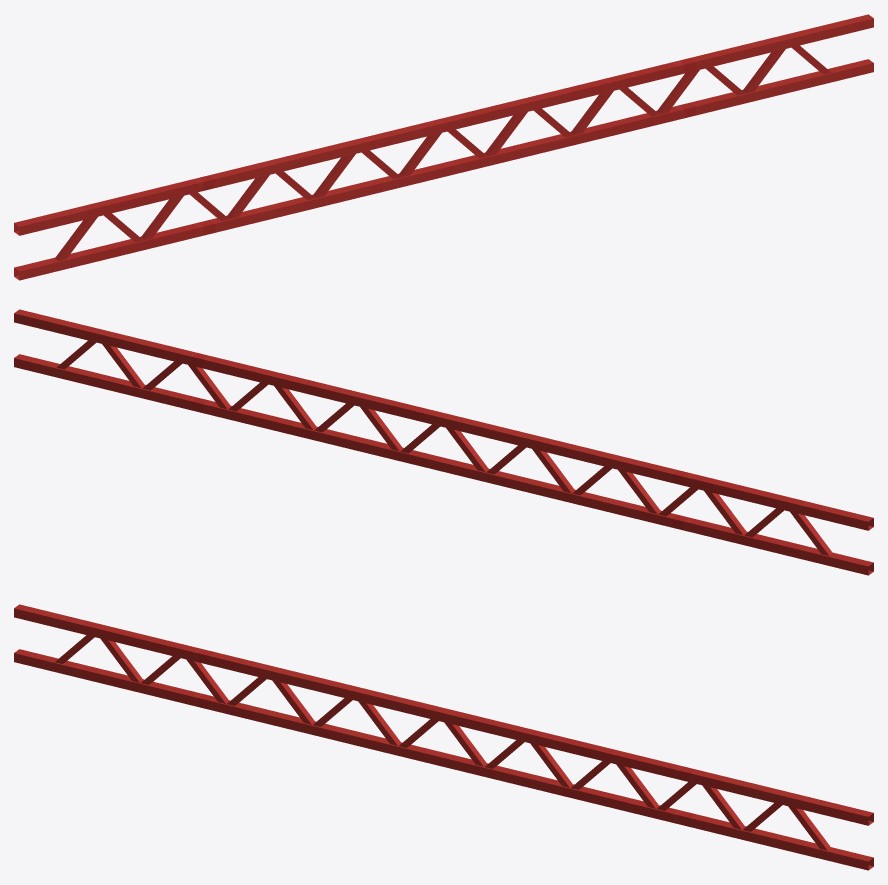
The model's file is steelFrame.fbx.
The picture shows the model from 3 angles, top to bottom: view 1: azimuth 30°, elevation 25°; view 2: azimuth 150°, elevation 25°; view 3: azimuth 330°, elevation 25°; orthographic projection.
Visible parts, largest first — view 1: steelFrame; view 2: steelFrame; view 3: steelFrame.
Part boxes in pixels (box(x1,y1,x2,y2)): steelFrame: box(14, 14, 873, 280); steelFrame: box(14, 309, 873, 575); steelFrame: box(14, 604, 873, 870).
Size of the model in its own units: 664 by 39.9 by 7.38.
